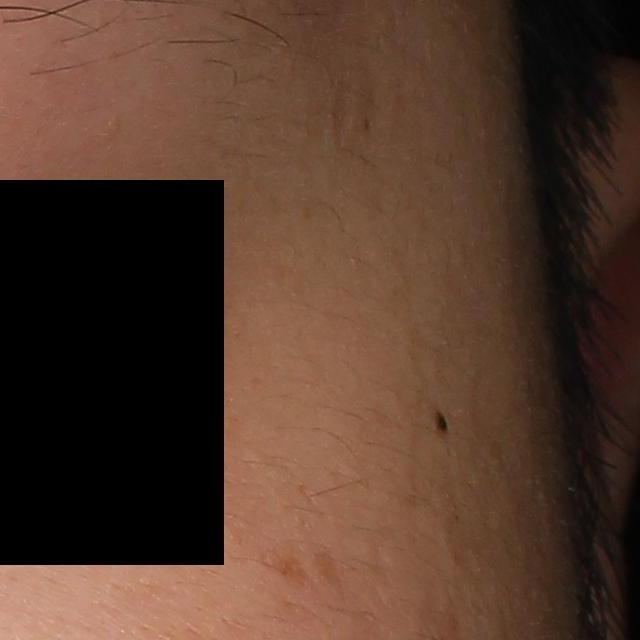nevus: (428, 402, 453, 436)
